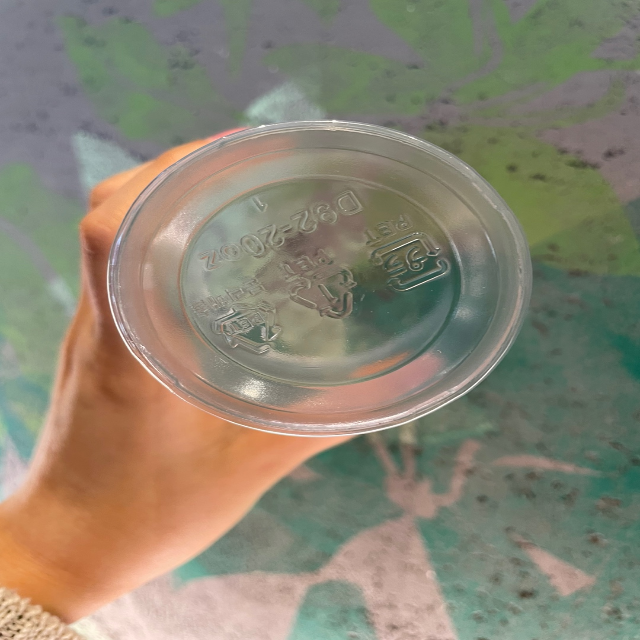pet: (179, 273, 290, 361), (354, 209, 458, 294), (272, 247, 362, 325)
